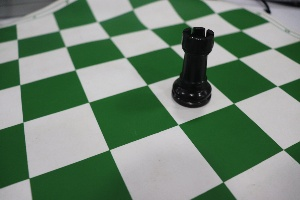black_rook: (159, 13, 224, 119)
